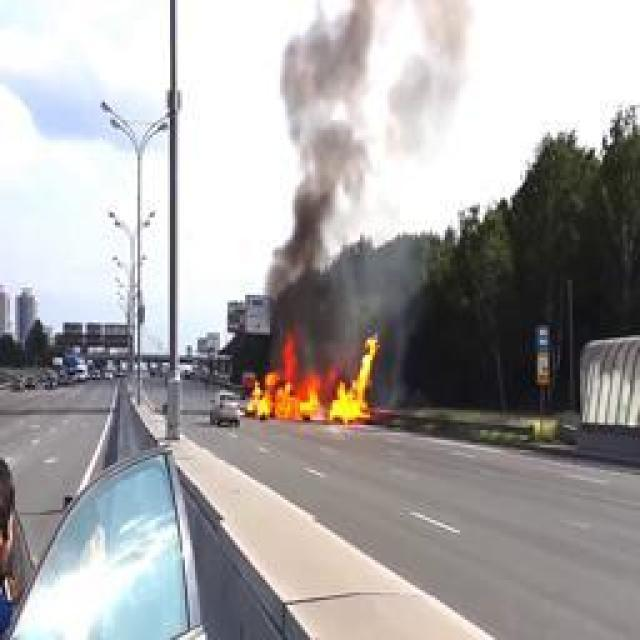Fire: (244, 334, 378, 422)
